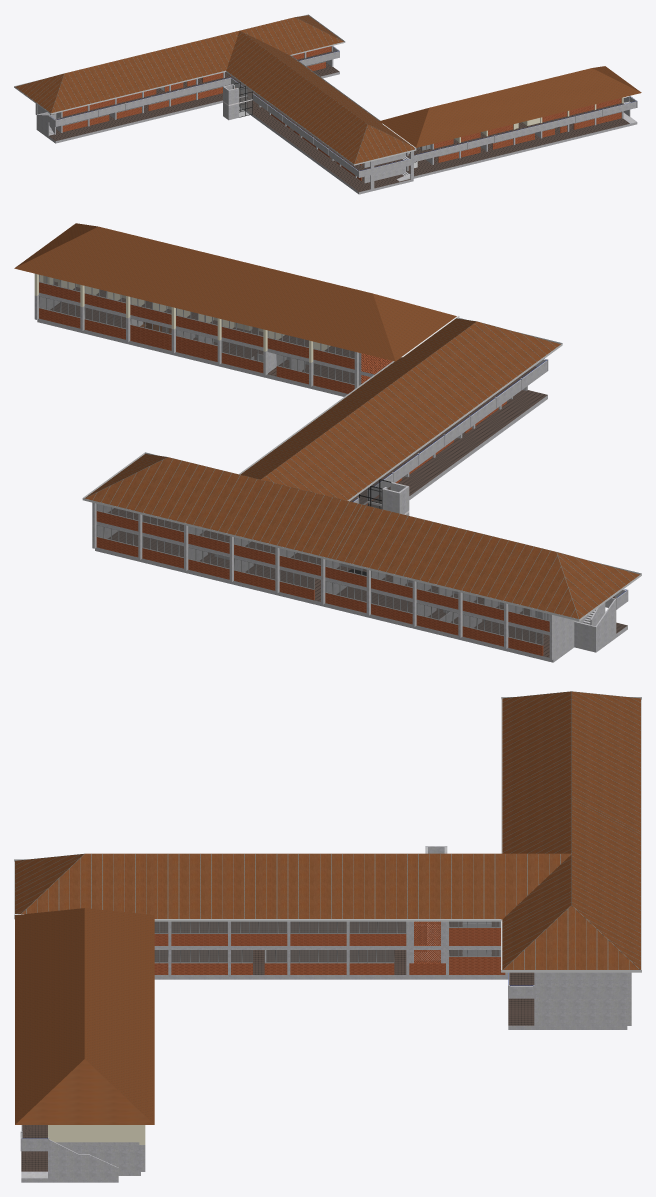
Rendered from Moviles.fbx.
The picture shows the model from 3 angles, top to bottom: view 1: azimuth 30°, elevation 25°; view 2: azimuth 150°, elevation 25°; view 3: azimuth 270°, elevation 25°; orthographic projection. The views are drawn at different scales.
Parts seen in each view (by area): view 1: Edificio; view 2: Edificio; view 3: Edificio.
Boxes of the visible parts, left/top/right/bottom form: Edificio: left=14, top=14, right=641, bottom=194; Edificio: left=14, top=223, right=641, bottom=662; Edificio: left=14, top=691, right=641, bottom=1182.
Size of the model in its own units: 10260 by 1131 by 6335.
29 materials, 13 textured.
